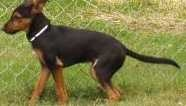dog: (11, 0, 180, 106)
